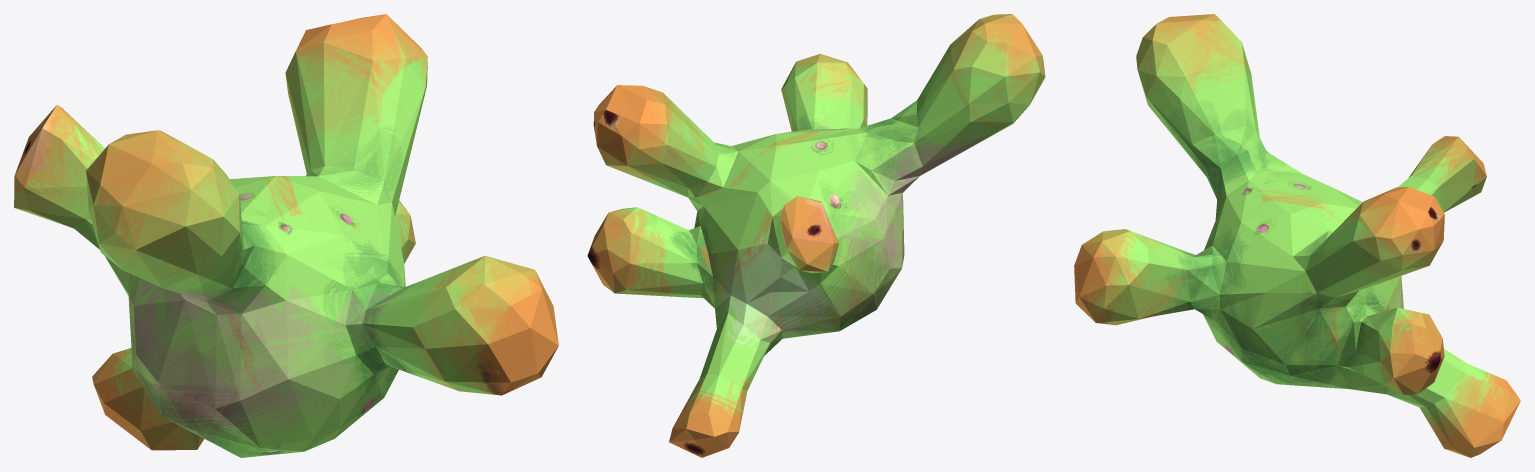
File: Bacteria.glb
3 views of the same model, side by side, from view 1: azimuth 30°, elevation 25°; view 2: azimuth 150°, elevation 25°; view 3: azimuth 270°, elevation 25° (orthographic). The views are drawn at different scales.
Parts seen in each view (by area): view 1: Cube.001; view 2: Cube.001; view 3: Cube.001.
Part boxes in pixels (box(x1,y1,x2,y2)): Cube.001: box(14, 14, 558, 457); Cube.001: box(587, 14, 1045, 457); Cube.001: box(1074, 14, 1520, 457).
Bounding box in the file's own units: 4.18 × 4.3 × 4.82.
Materials: 1 (1 with a texture image).
